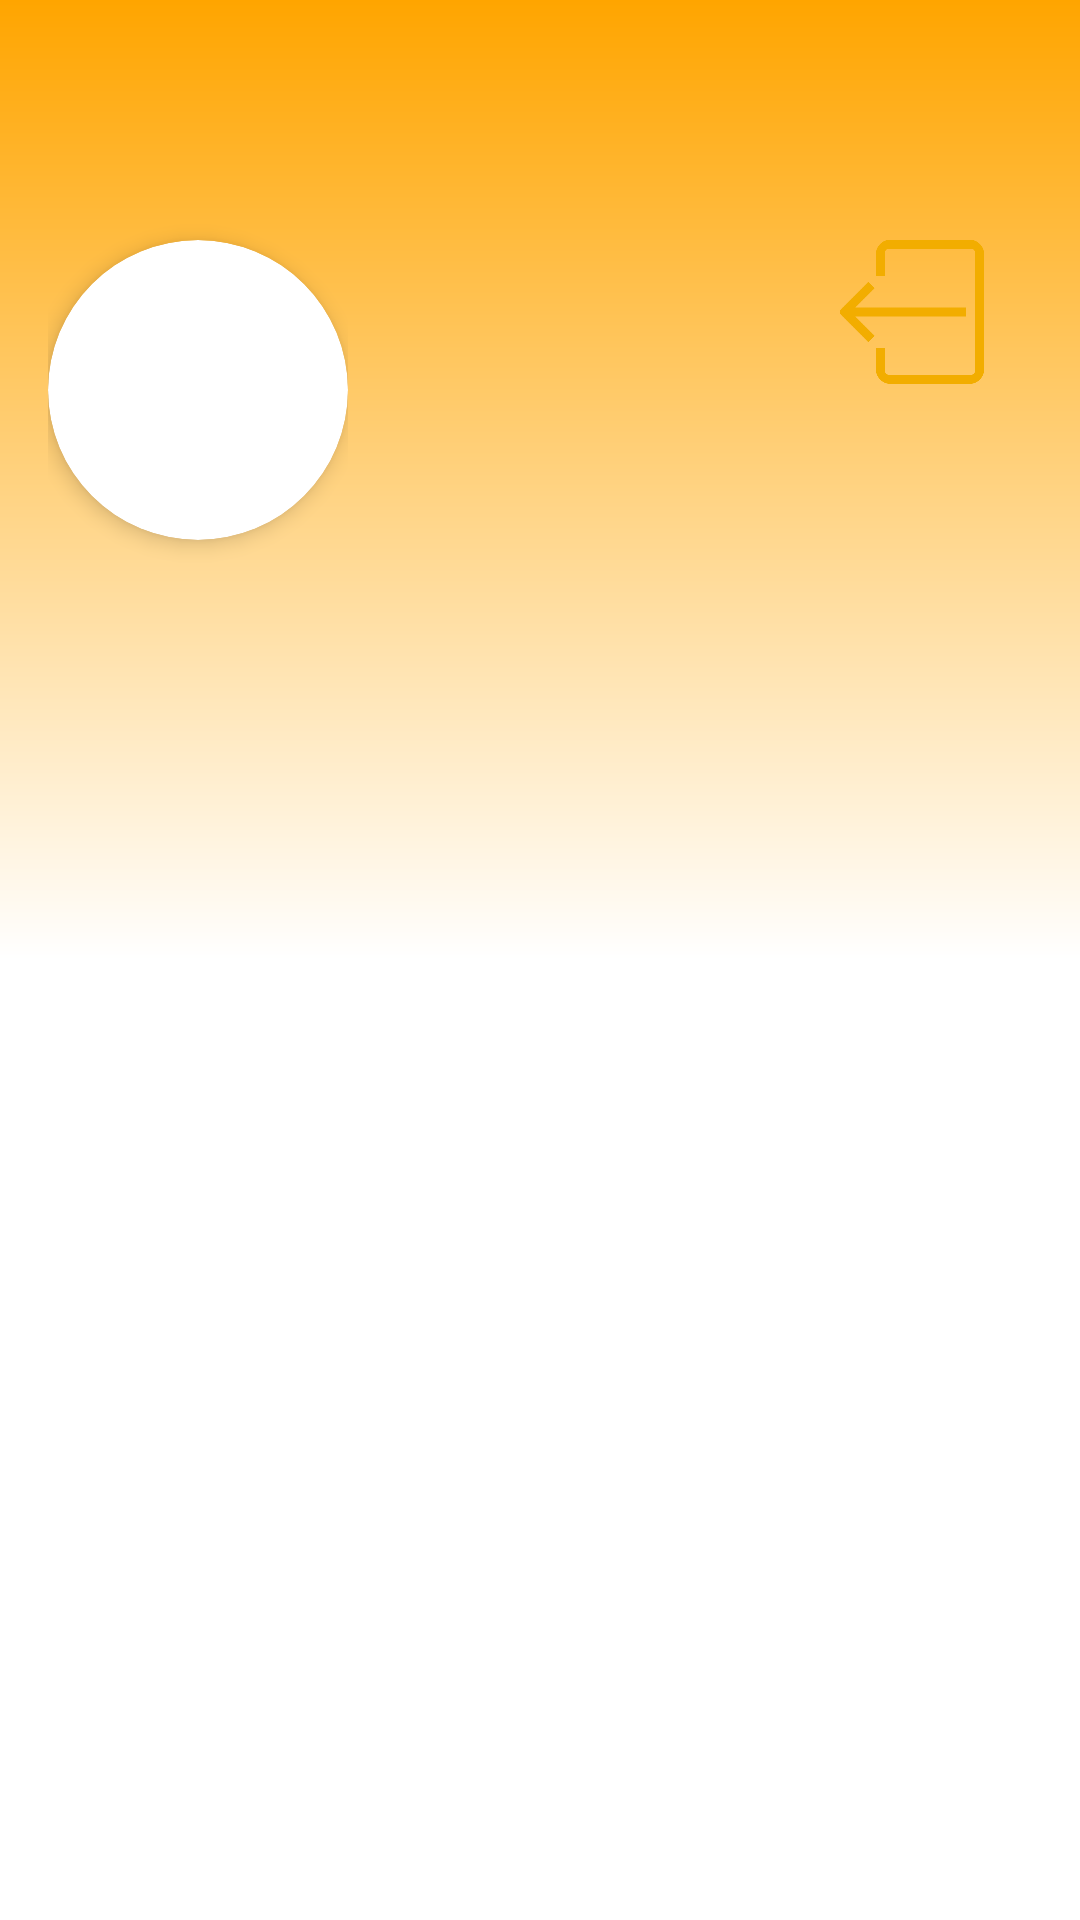

Icons on this 1080x1920 Android screen, each with the point to tap as (x=x, y=y):
deconnexion: (x=912, y=312)
